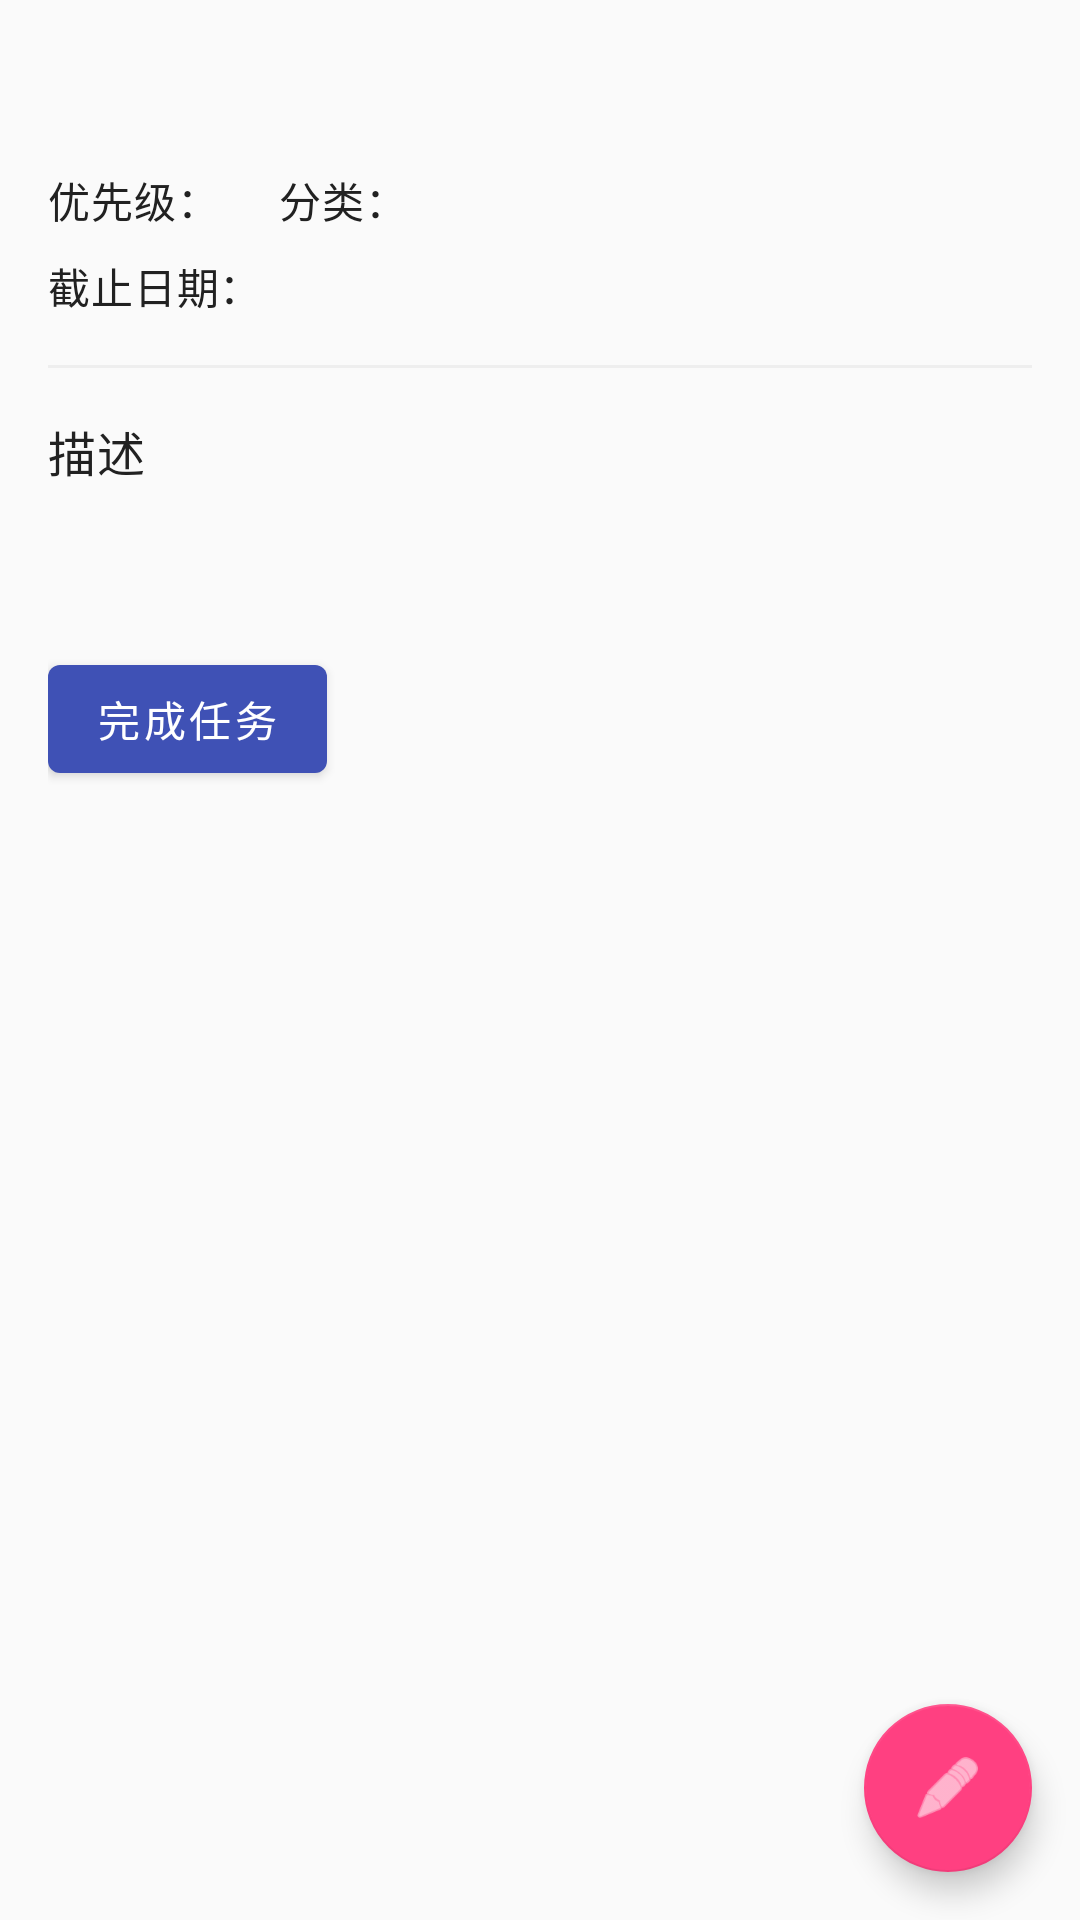

Where to tap for icons on this 1080px x 1920px app screen, as [x,y]:
编辑任务: [948,1788]
